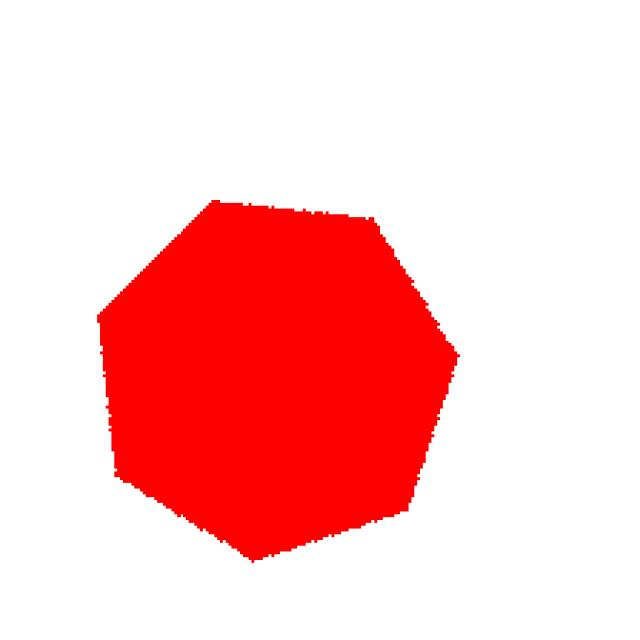Heptagon: (63, 133, 484, 560)
